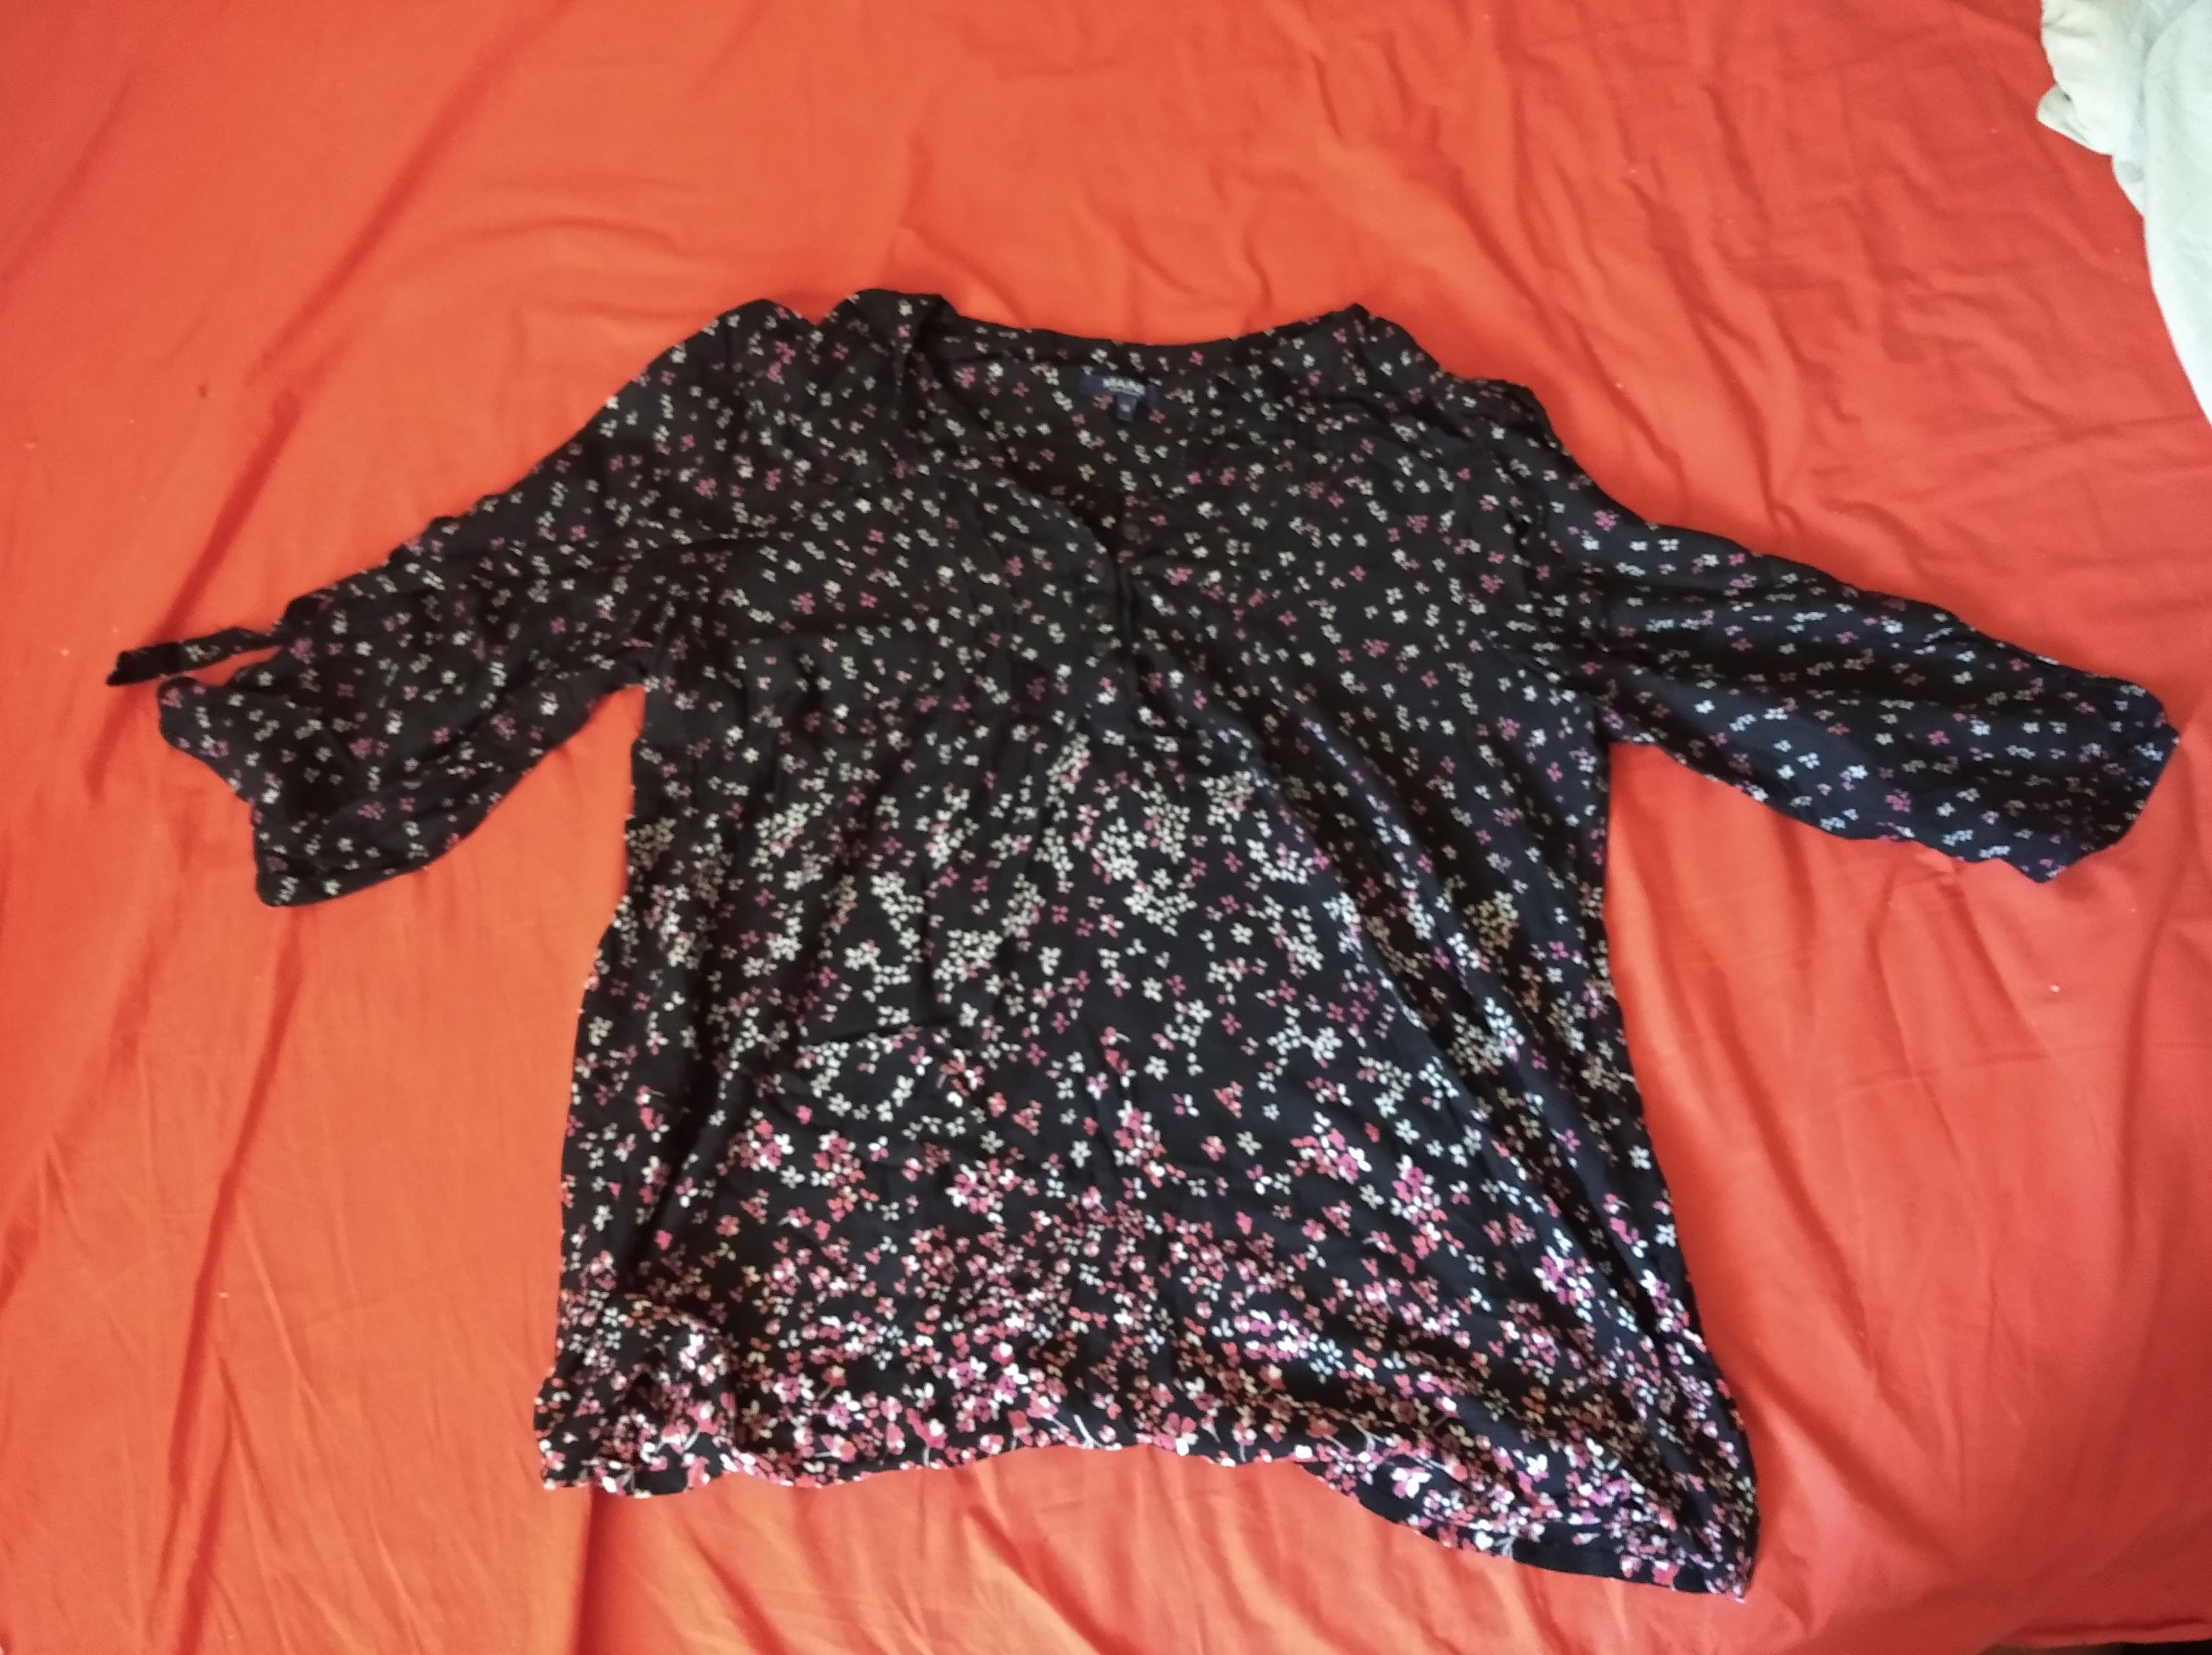clothes: (96, 282, 2167, 1606)
